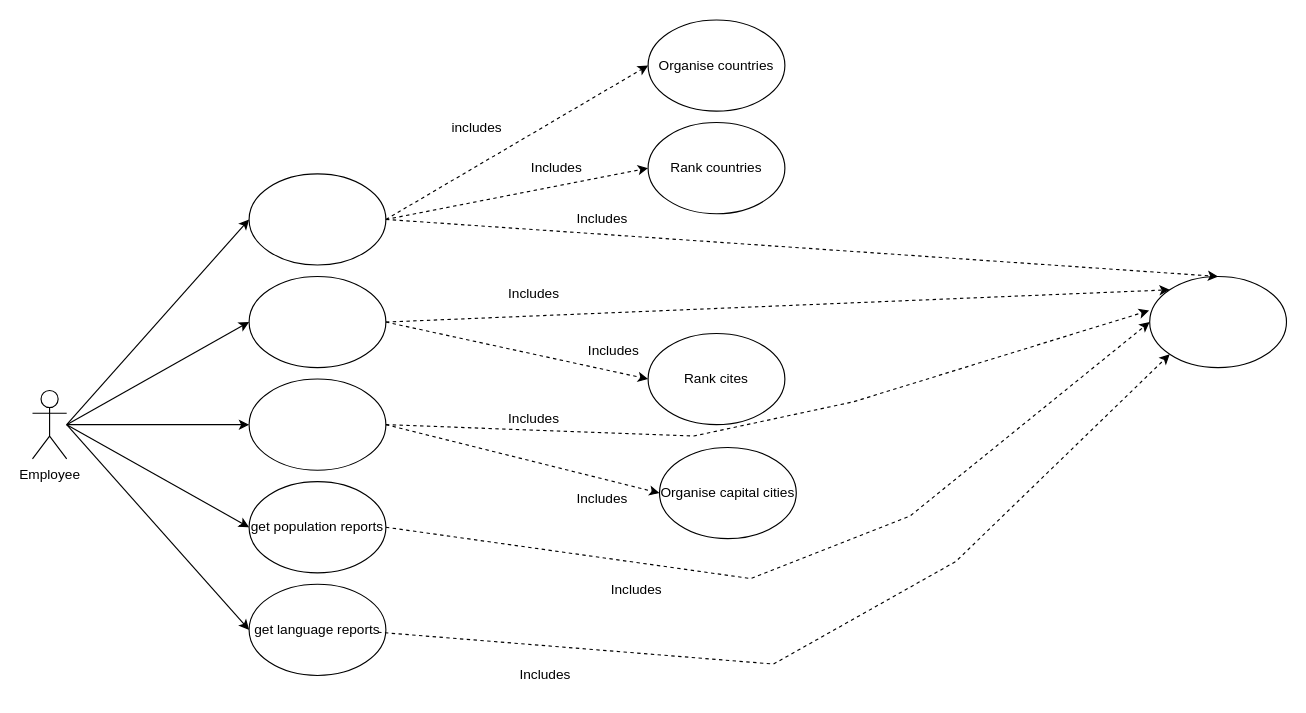
The diagram is 1306 pixels wide and 713 high, and some of its shapes have lost their labels. Here are the shapes that lost their labels. From the top down, the box of each, then its label:
(248, 173, 386, 265): get report of country
(248, 275, 386, 368): get report of city
(1149, 275, 1286, 368): Display to console
(248, 378, 386, 470): get capital city reports
